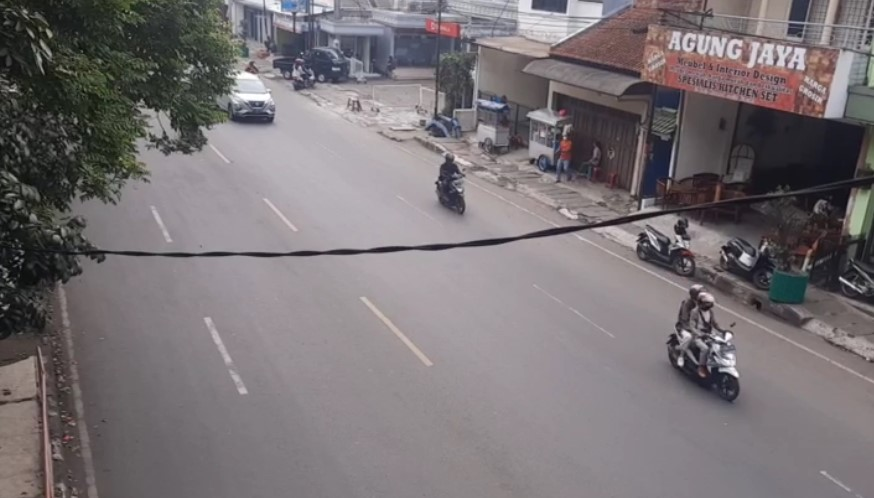motor: (674, 285, 747, 406), (432, 155, 469, 215)
